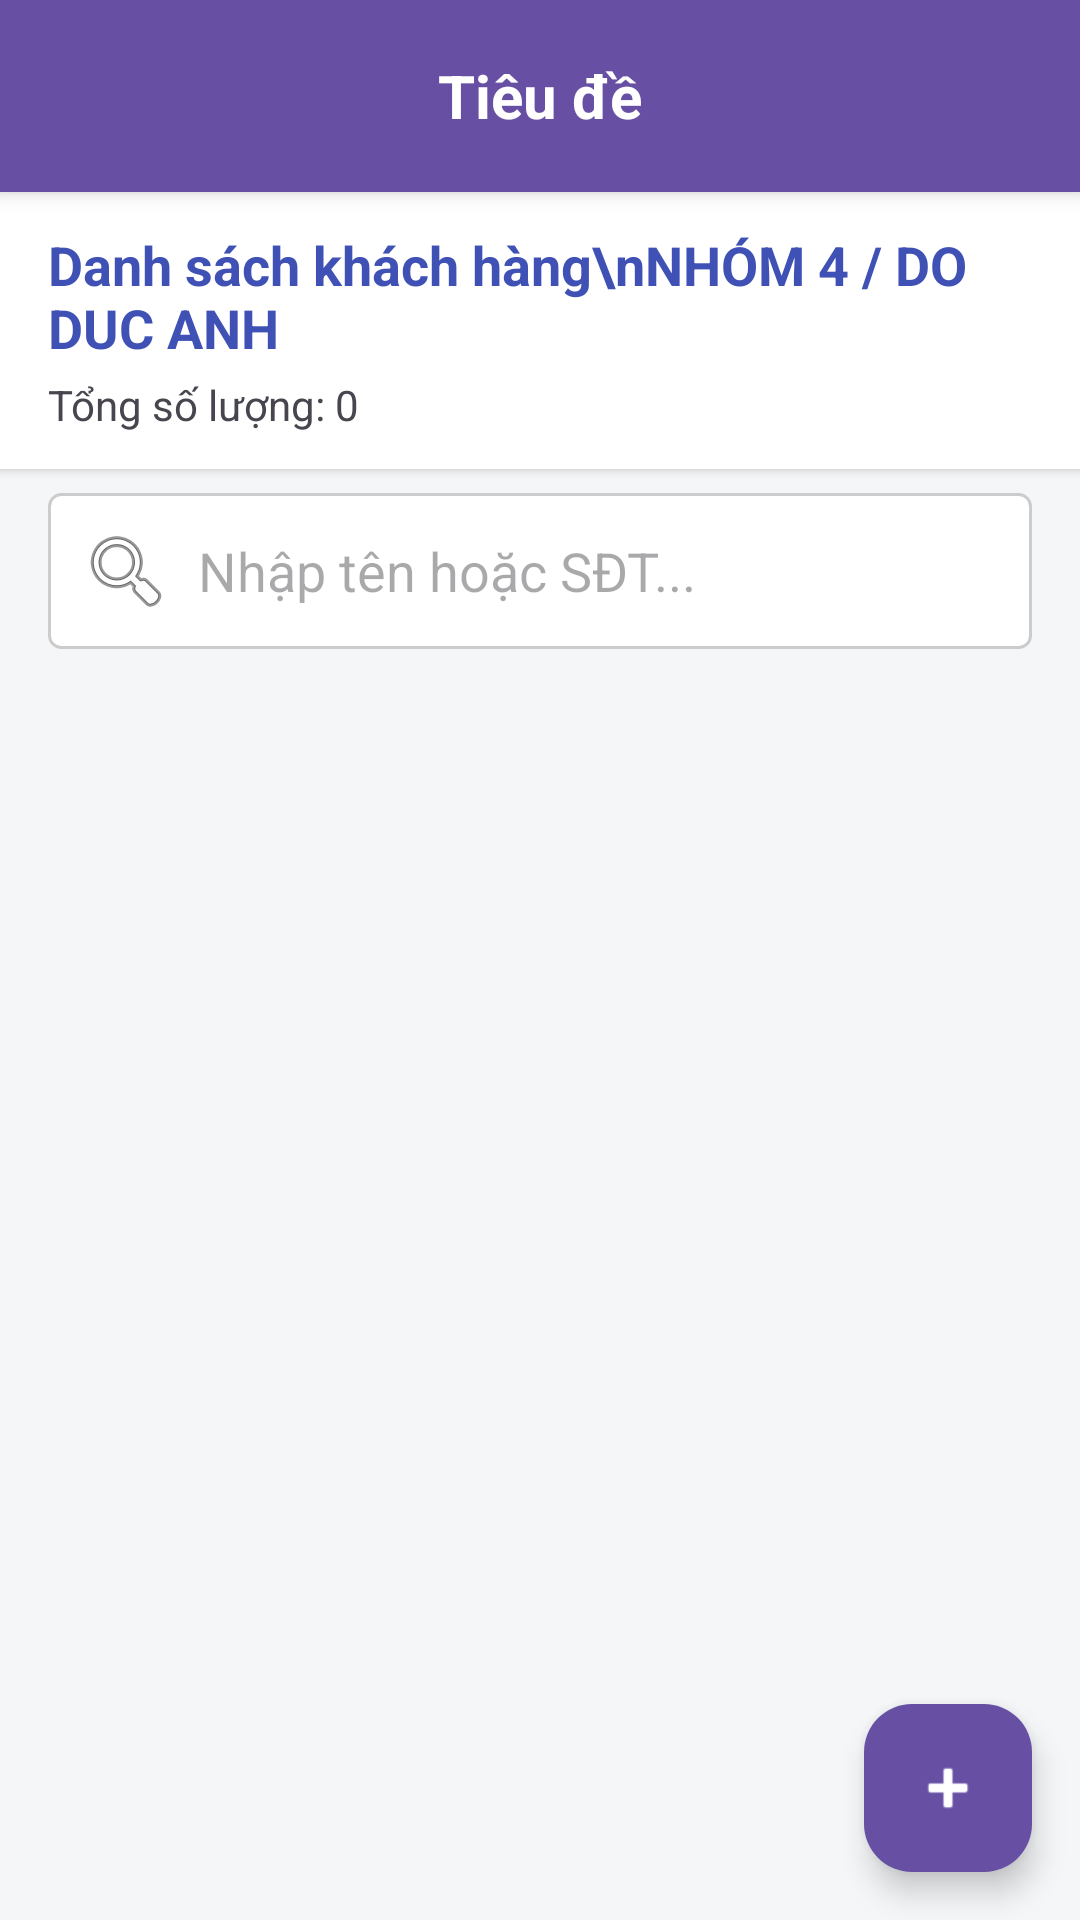

Icon bounding boxes for this 1080x1920 phone screenshot, format [left=x1, top=y1, right=x2, bottom=y2]:
Tạo khách hàng mới: [left=864, top=1704, right=1032, bottom=1872]
